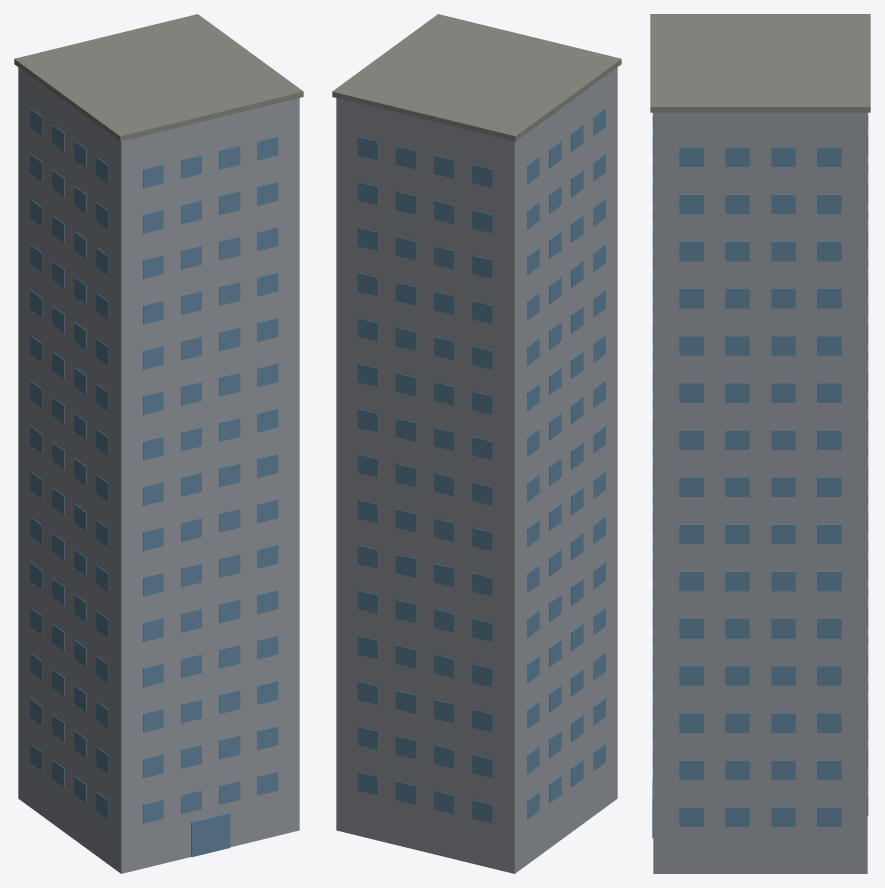
File: EdificioB.obj
3 renders of one model, left to right at view 1: azimuth 30°, elevation 25°; view 2: azimuth 150°, elevation 25°; view 3: azimuth 270°, elevation 25°, orthographic. The views are drawn at different scales.
Parts seen in each view (by area): view 1: E1_edificio_C_E1_Fachada.003, E1_edificio_C_E1_Vidrio.003, E1_edificio_C_E1_Concreto.003; view 2: E1_edificio_C_E1_Fachada.003, E1_edificio_C_E1_Vidrio.003, E1_edificio_C_E1_Concreto.003; view 3: E1_edificio_C_E1_Fachada.003, E1_edificio_C_E1_Vidrio.003, E1_edificio_C_E1_Concreto.003.
Boxes of the visible parts, x1,y1,x2,y2 form: E1_edificio_C_E1_Fachada.003: (18, 67, 299, 873); E1_edificio_C_E1_Vidrio.003: (30, 108, 278, 857); E1_edificio_C_E1_Concreto.003: (14, 14, 303, 141); E1_edificio_C_E1_Fachada.003: (336, 67, 617, 873); E1_edificio_C_E1_Vidrio.003: (357, 108, 605, 823); E1_edificio_C_E1_Concreto.003: (332, 14, 621, 141); E1_edificio_C_E1_Fachada.003: (653, 112, 867, 873); E1_edificio_C_E1_Vidrio.003: (652, 113, 868, 838); E1_edificio_C_E1_Concreto.003: (650, 14, 870, 112).
Bounding box in the file's own units: 14.4 × 55.4 × 14.4.
